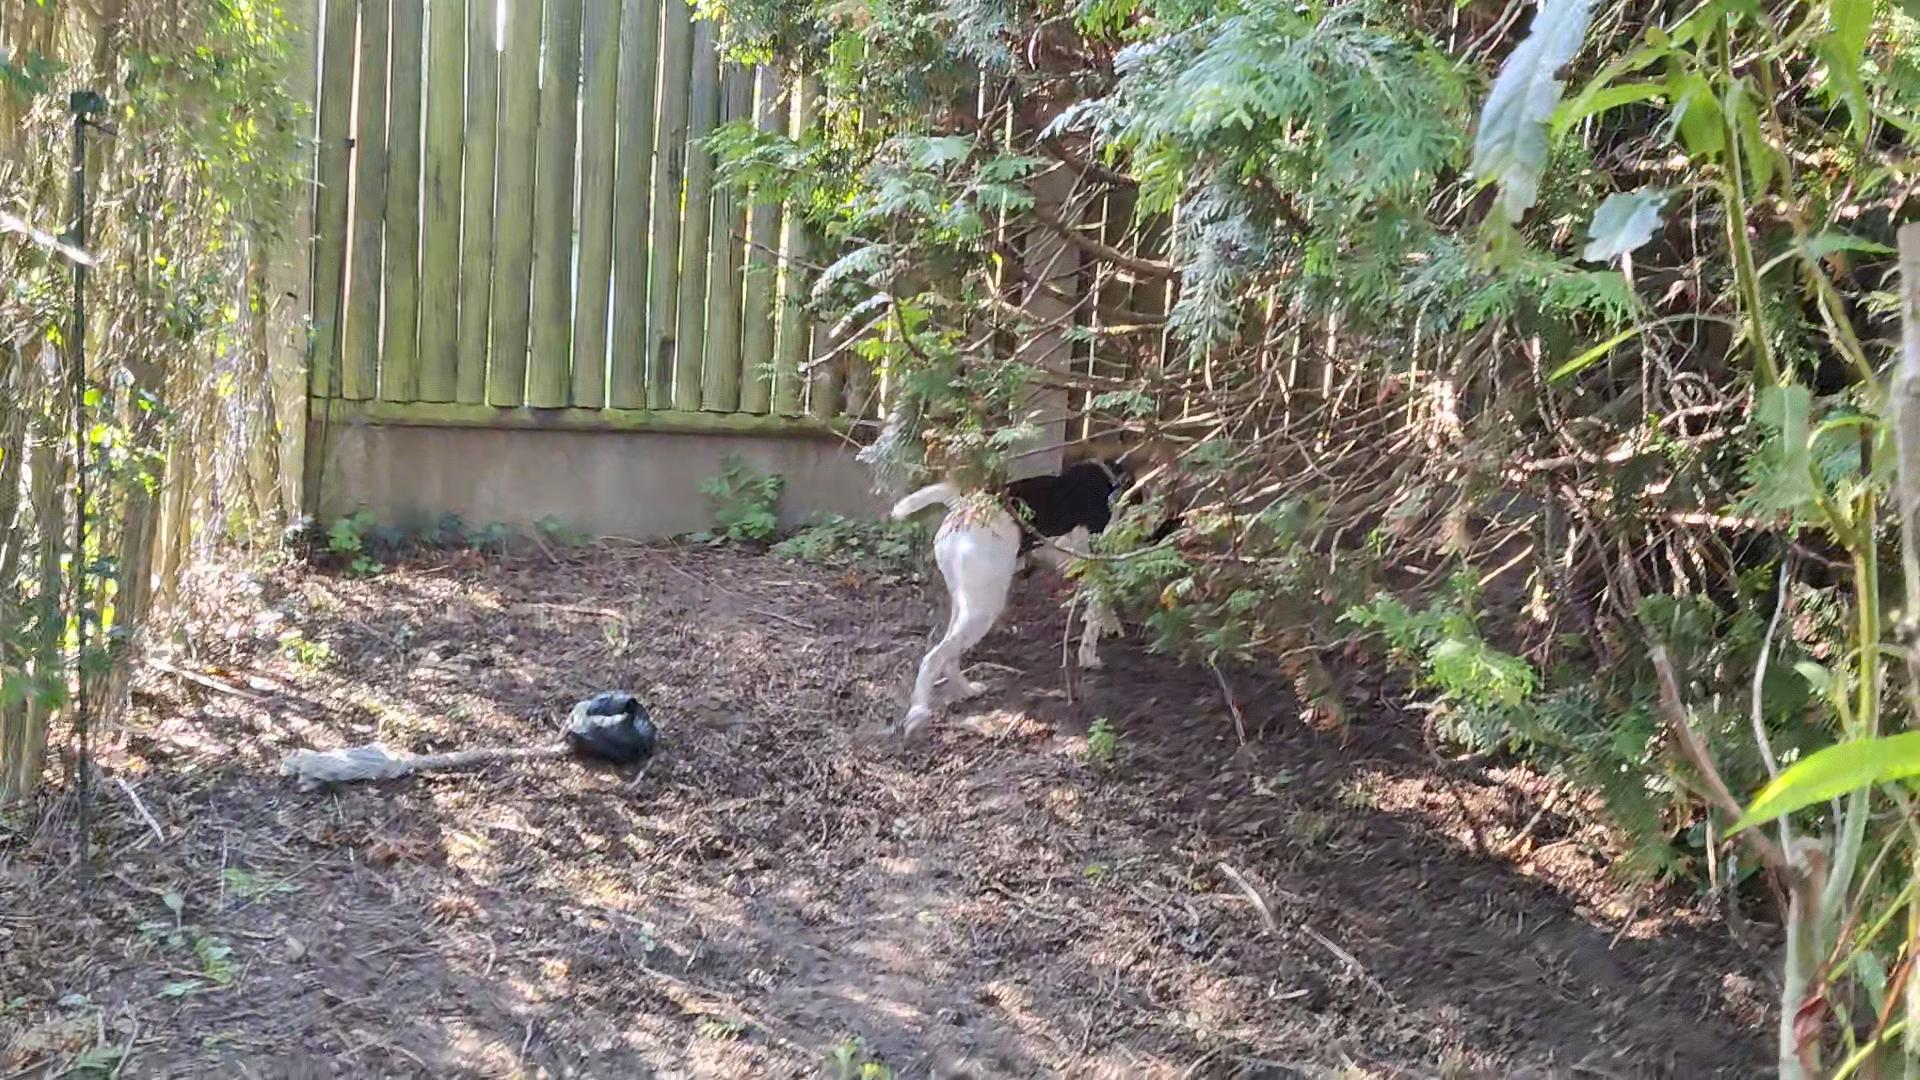Dog: (861, 448, 1215, 738)
